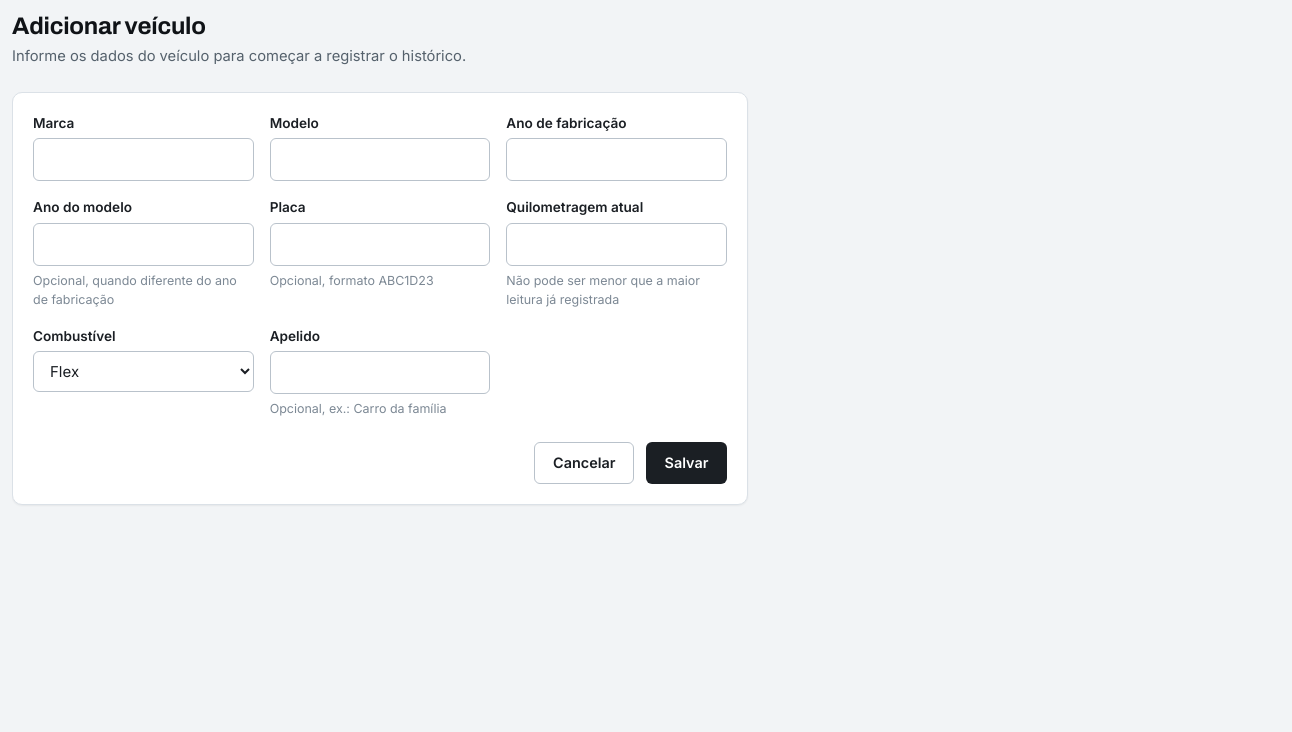
Test: VehicleFormPage — creating › reports the business rule raised by the backend
Type "Fiat" into the field labelled "Marca" at (143, 160), box [33, 138, 254, 181]
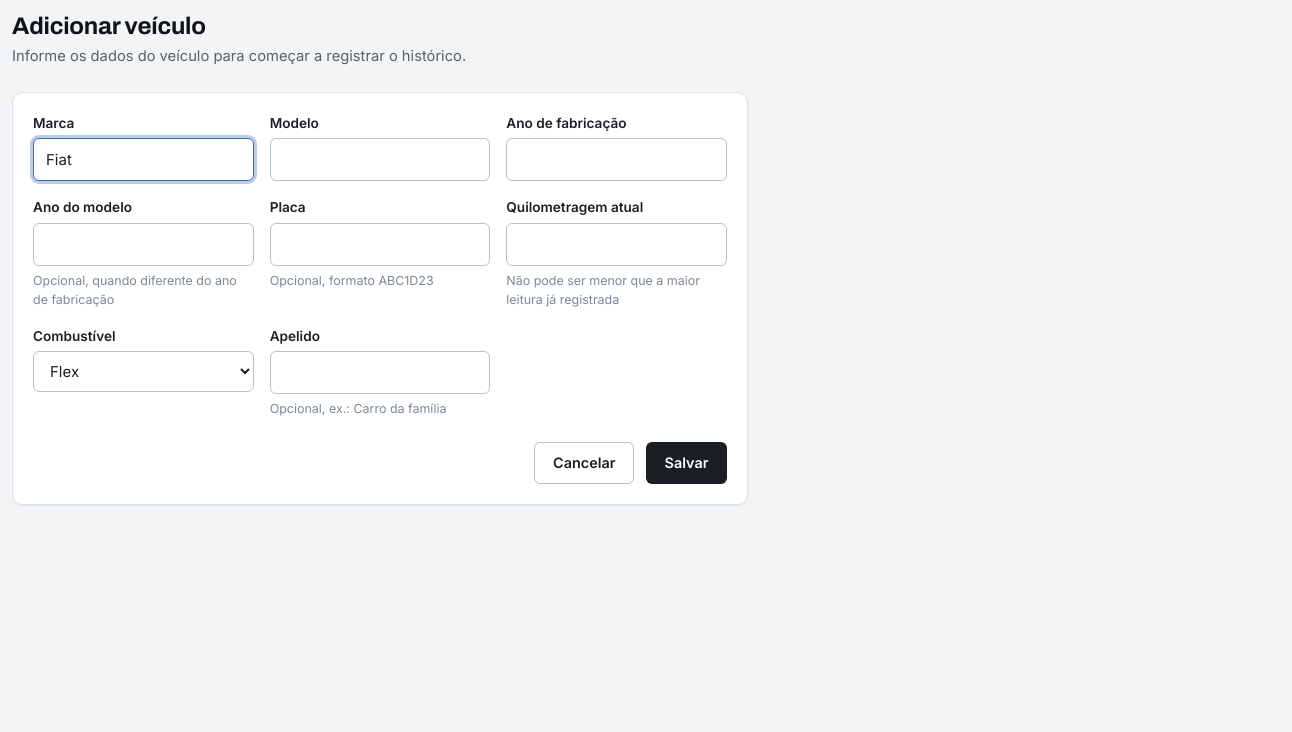
Type "Argo" into the field labelled "Modelo" at (380, 160), box [270, 138, 490, 181]
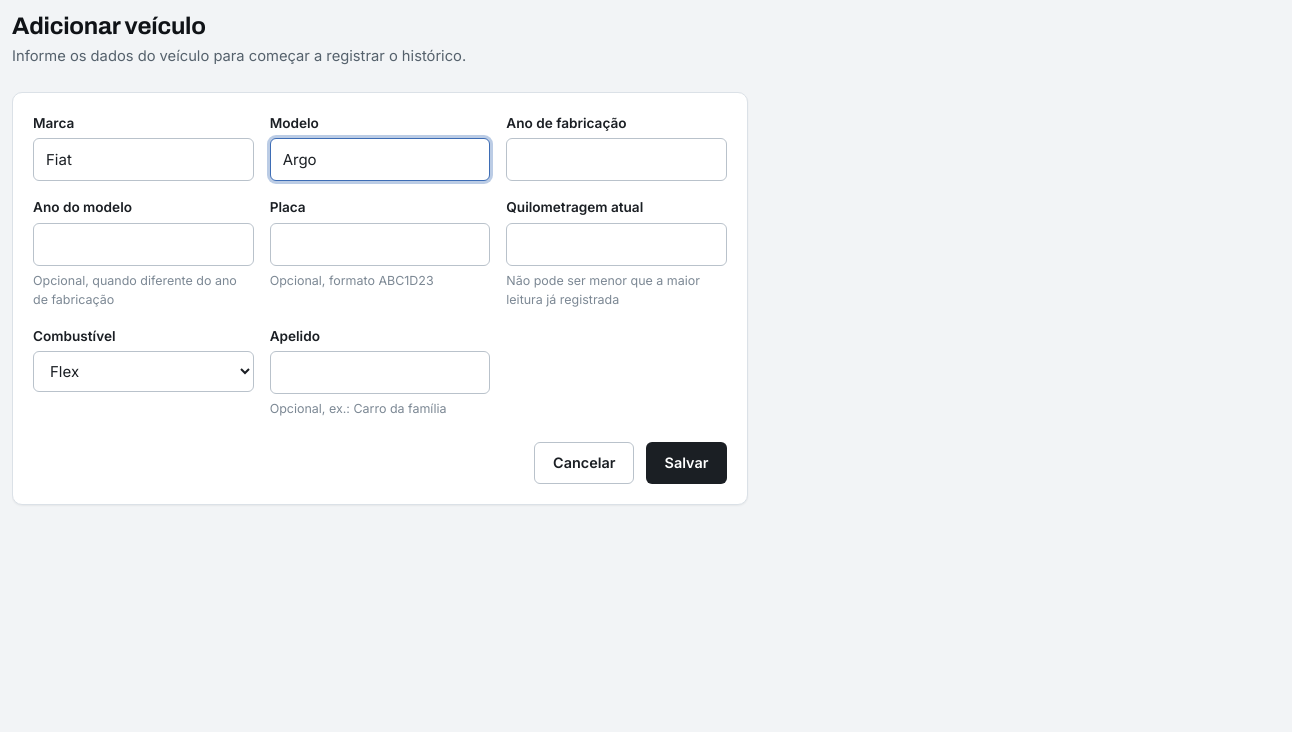
Type "2021" into the number field labelled "Ano de fabricação" at (617, 160), box [506, 138, 727, 181]
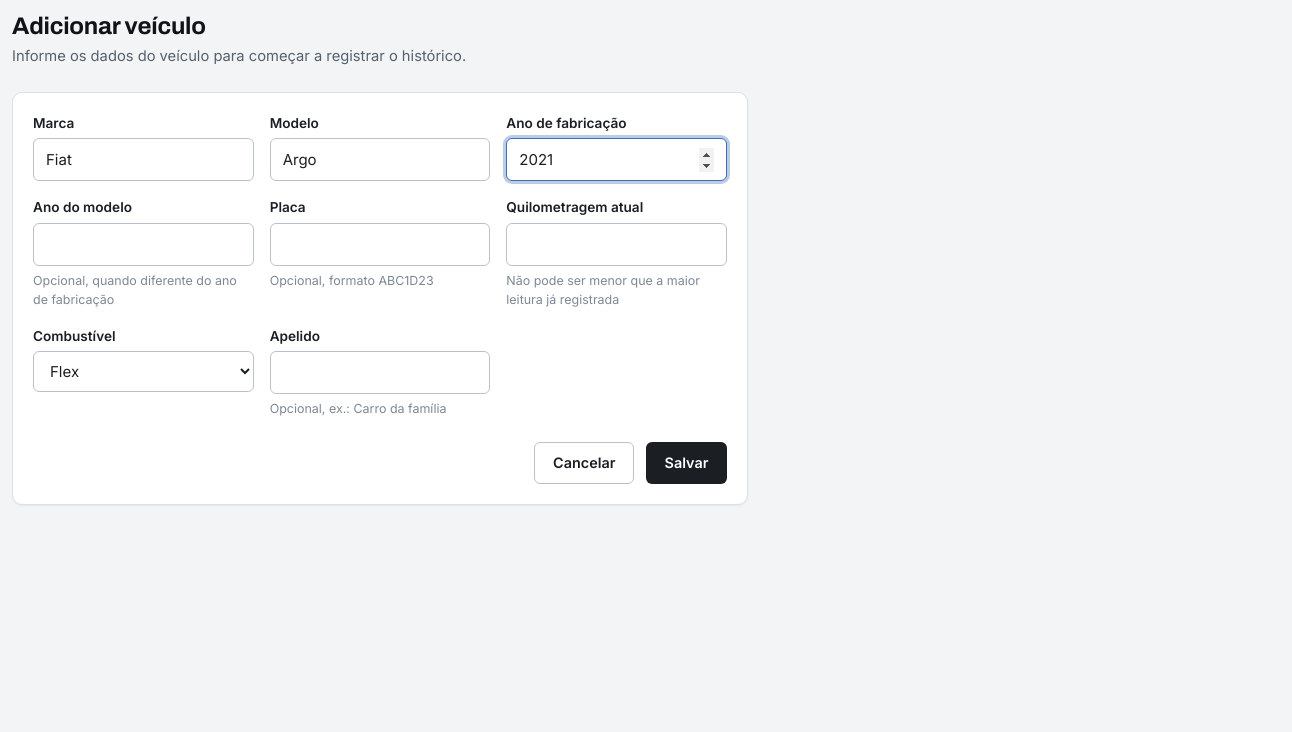
Type "45000" into the number field labelled "Quilometragem atual" at (617, 245), box [506, 223, 727, 266]
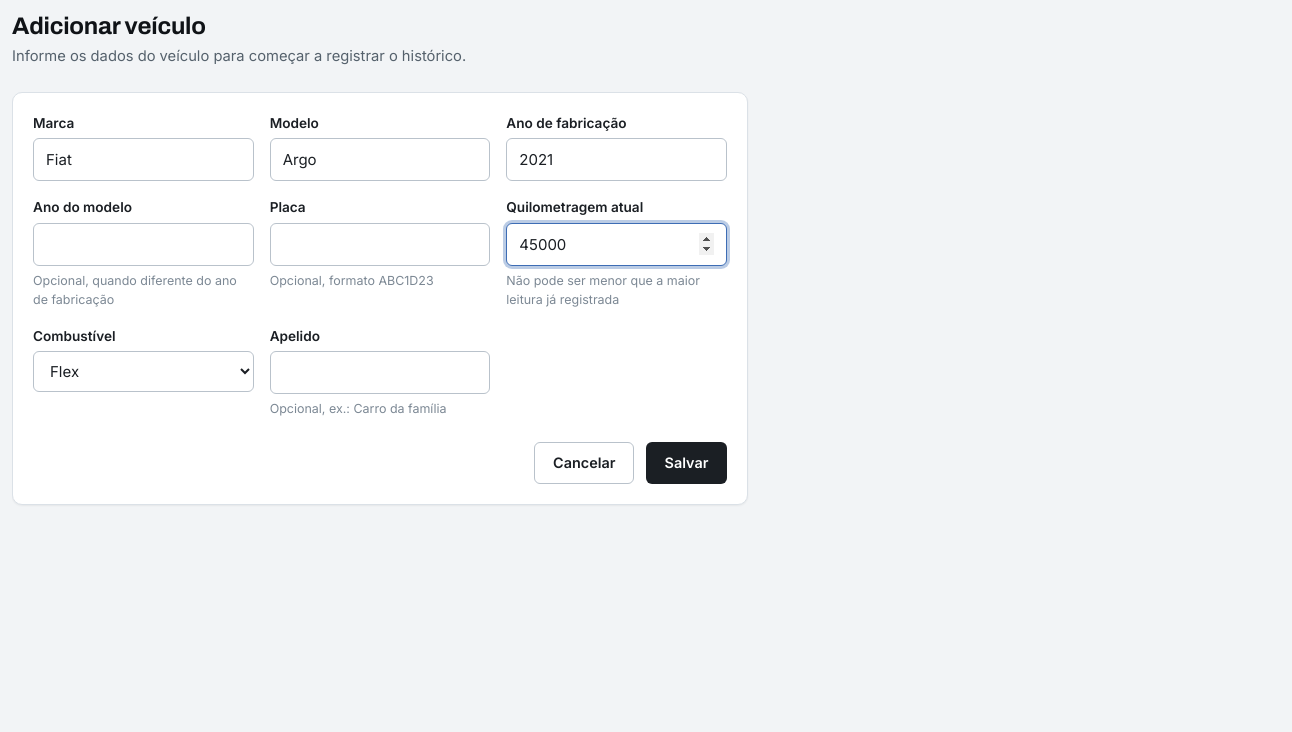
Click the button "Salvar" at (686, 463), box [646, 442, 727, 484]
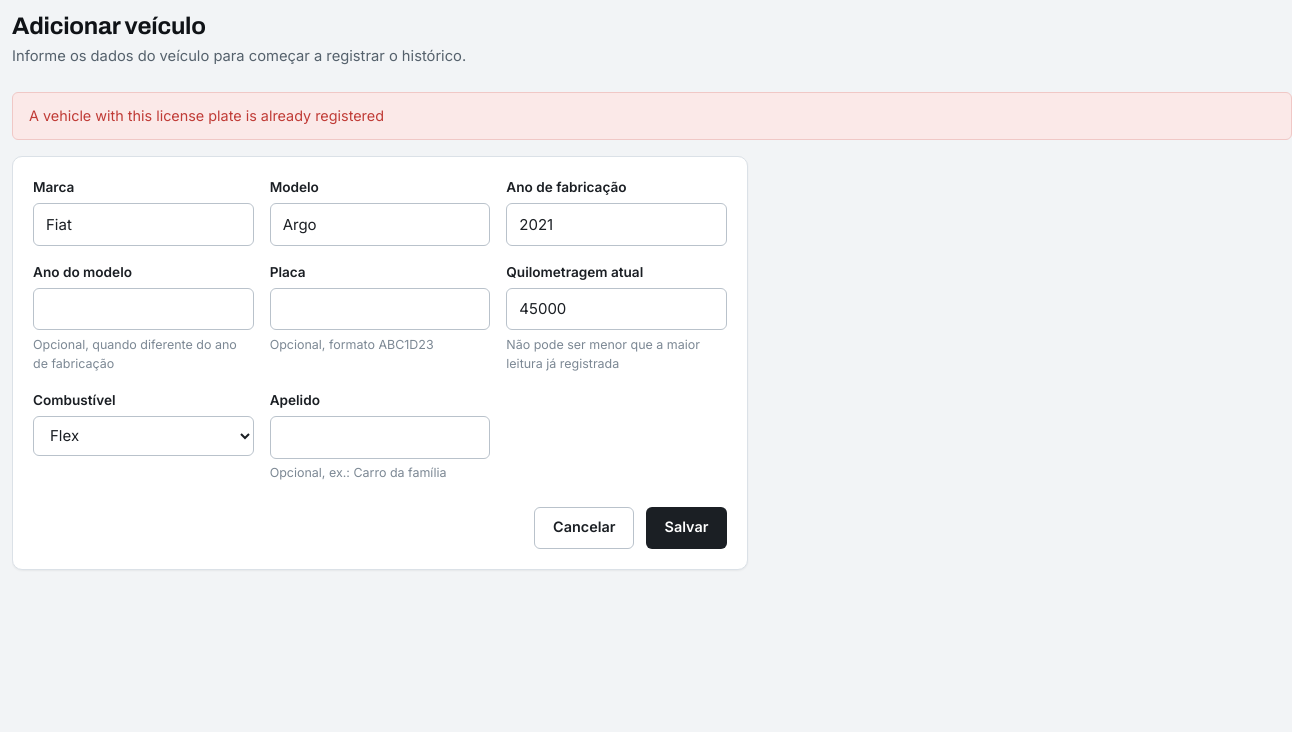
Check: the message reads "A vehicle with this license plate is already registered", box [29, 107, 384, 124]
